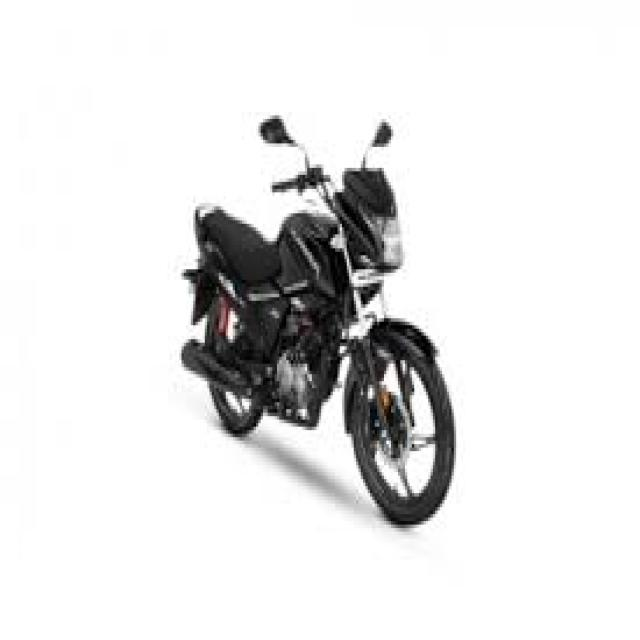MOTORCYCLE: (180, 166, 456, 530)
